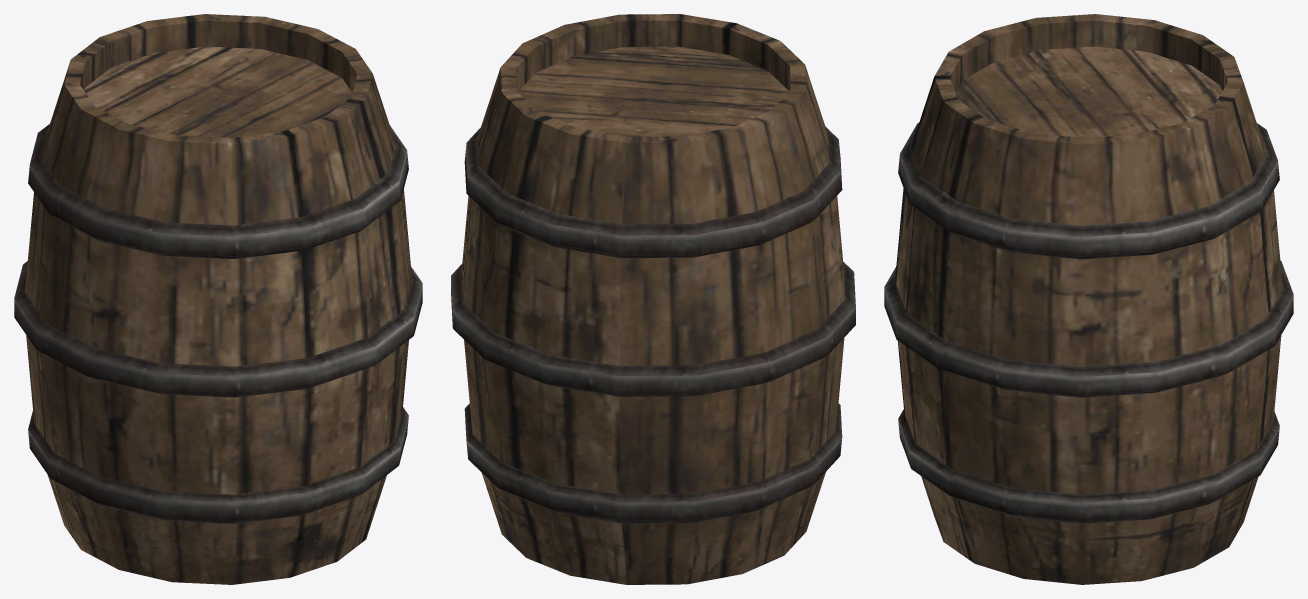
Rendered from Barrel_v1.gltf.
3 renders of one model, left to right at view 1: azimuth 30°, elevation 25°; view 2: azimuth 150°, elevation 25°; view 3: azimuth 270°, elevation 25°, orthographic.
Visible parts, largest first — view 1: Barrel_v1(Clone); view 2: Barrel_v1(Clone); view 3: Barrel_v1(Clone).
Part boxes in pixels (bbox=[...]): Barrel_v1(Clone): bbox=[14, 14, 422, 584]; Barrel_v1(Clone): bbox=[451, 14, 855, 584]; Barrel_v1(Clone): bbox=[884, 14, 1293, 584].
Bounding box in the file's own units: 1.02 × 1.21 × 1.02.
1 material, 1 textured.
